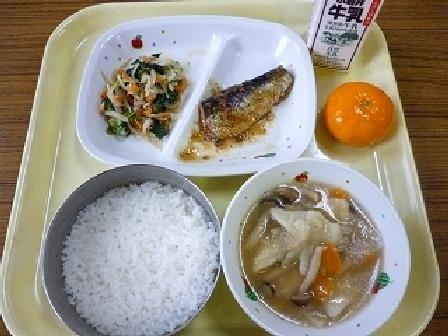Citrus: (317, 78, 402, 162)
Fish: (192, 61, 295, 142)
Milk: (292, 0, 400, 70)
Rice: (42, 175, 217, 330)
Salad: (99, 50, 183, 150)
Soups: (226, 174, 400, 323)
